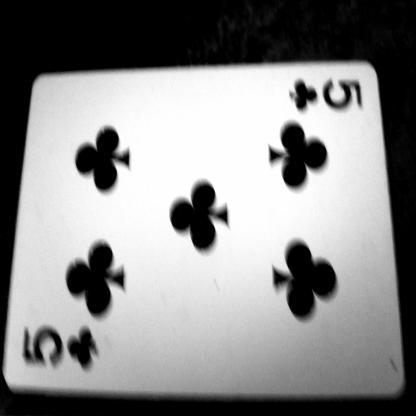5C: (13, 323, 114, 384), (274, 66, 374, 122)
